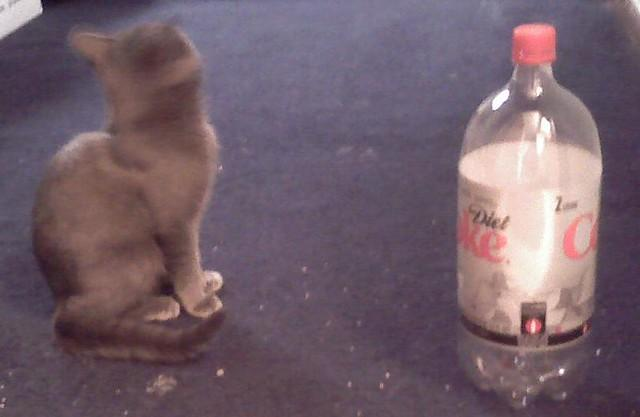plastic_bottle: (448, 17, 605, 409)
